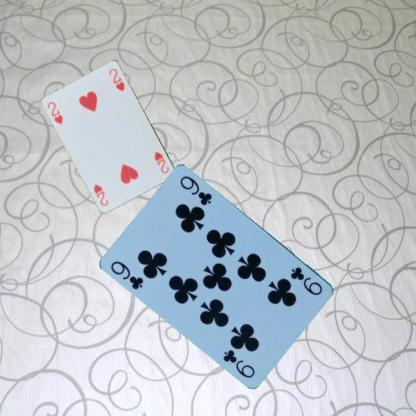2h: (45, 99, 64, 125), (152, 149, 170, 175)
9c: (108, 258, 146, 291), (288, 264, 324, 297)
